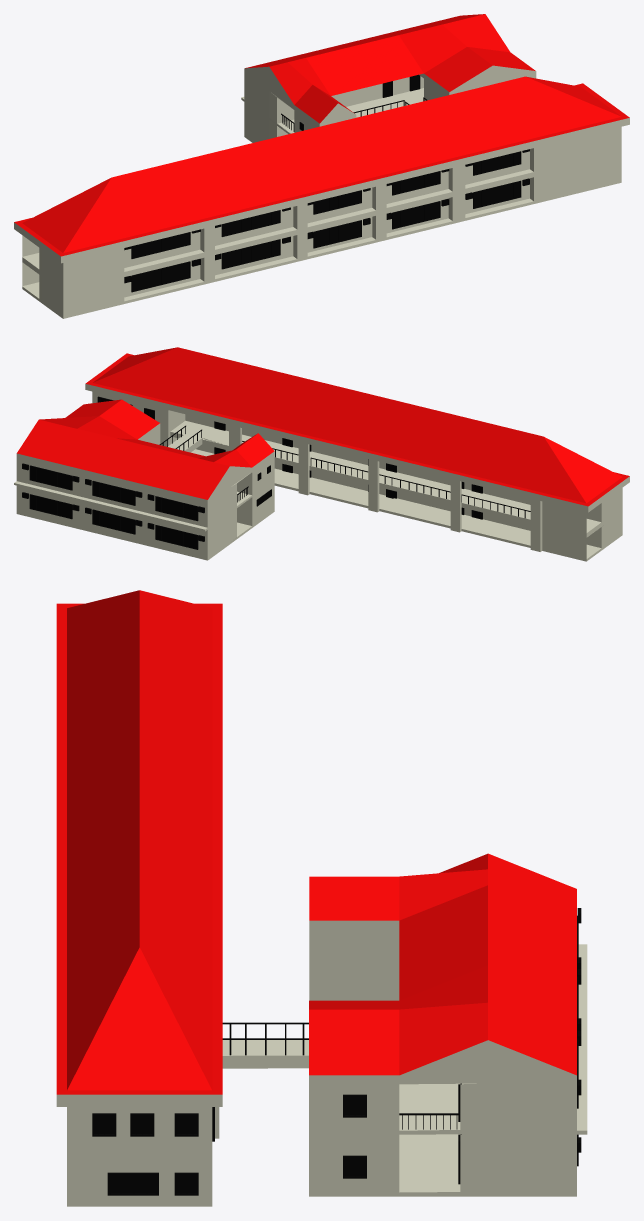
File: CEAT.fbx
The picture shows the model from 3 angles, top to bottom: view 1: azimuth 30°, elevation 25°; view 2: azimuth 150°, elevation 25°; view 3: azimuth 270°, elevation 25°; orthographic projection. The views are drawn at different scales.
Visible parts, largest first — view 1: Cube, Rear.006, Rear.007, Rear.005, Rear.009, Rear.008, Rear, Rear.001, Rear.004, Rear.003, Rear.002; view 2: Cube, Rear.016, Rear.020, Rear.018, Rear.019, Rear.021, Rear.017, Rear.010, Rear.011; view 3: Cube.
Boxes of the visible parts, box(x1,y1,x2,y2) form: Cube: box(14, 14, 629, 318); Rear.006: box(124, 259, 200, 292); Rear.007: box(215, 236, 290, 269); Rear.005: box(465, 178, 529, 208); Rear.009: box(386, 199, 449, 229); Rear.008: box(307, 218, 370, 248); Rear: box(124, 229, 200, 258); Rear.001: box(215, 207, 290, 236); Rear.004: box(465, 149, 529, 175); Rear.003: box(386, 169, 449, 195); Rear.002: box(307, 188, 370, 214); Cube: box(14, 347, 629, 561); Rear.016: box(22, 463, 79, 490); Rear.020: box(85, 507, 142, 534); Rear.018: box(147, 494, 204, 521); Rear.019: box(22, 492, 79, 519); Rear.021: box(147, 523, 204, 549); Rear.017: box(85, 479, 142, 505); Rear.010: box(214, 421, 482, 493); Rear.011: box(214, 447, 482, 519); Cube: box(56, 590, 587, 1206).
Bounding box in the file's own units: 27241 × 5141 × 12445.
